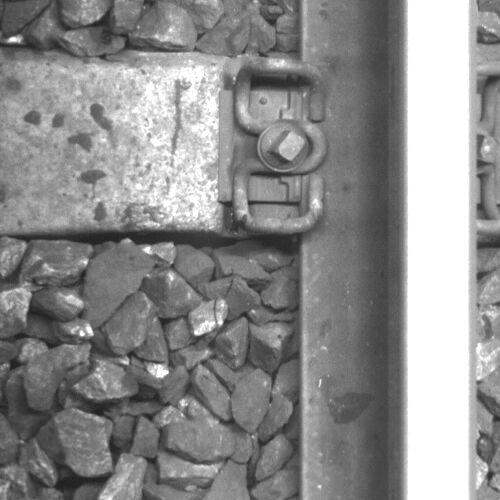rail: (401, 1, 476, 500)
tie_concr: (1, 63, 305, 234)
vossloh: (219, 57, 326, 236)
